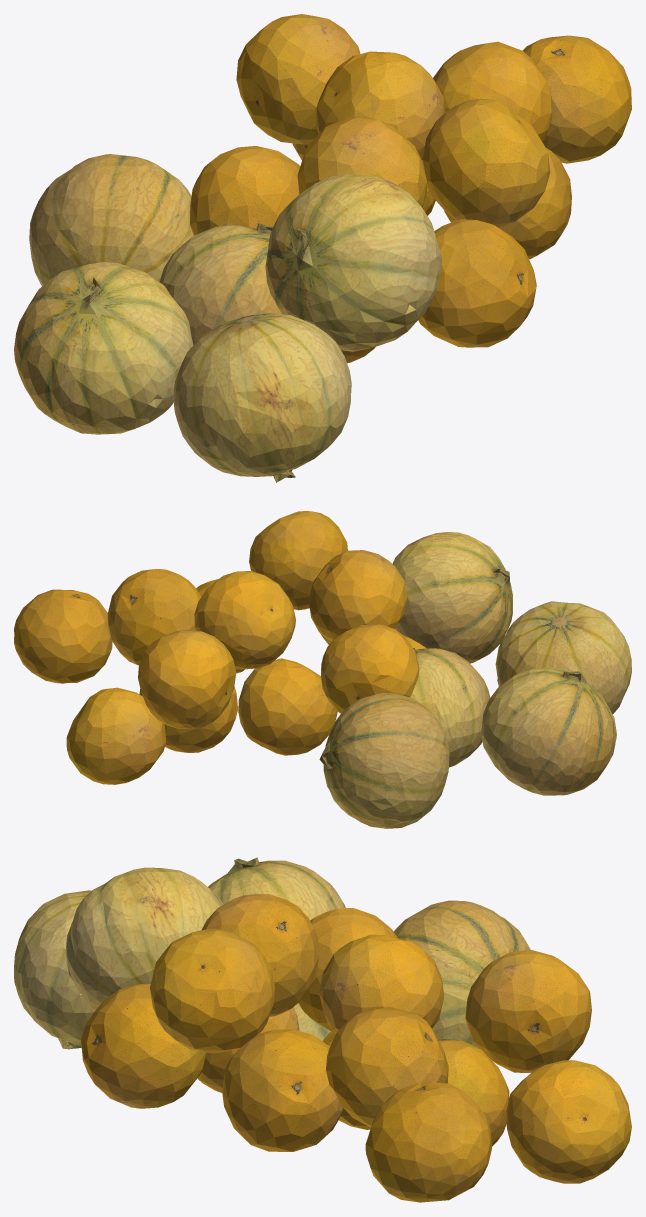
Rendered from P_NEWMaket01_after22.obj.
3 renders of one model, top to bottom at view 1: azimuth 30°, elevation 25°; view 2: azimuth 150°, elevation 25°; view 3: azimuth 270°, elevation 25°, orthographic. The views are drawn at different scales.
Bounding box in the file's own units: 0.9715 × 0.3462 × 0.7981.
Materials: 2 (2 with a texture image).
